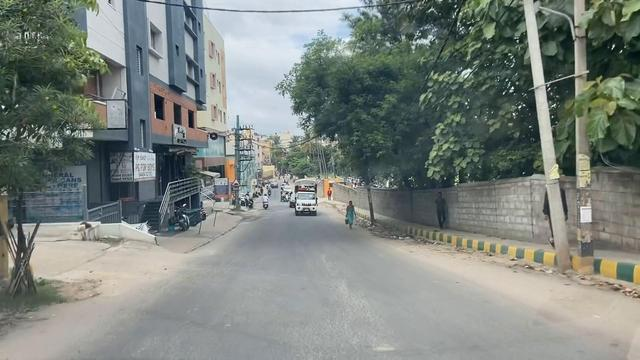HMV: (293, 180, 327, 221)
